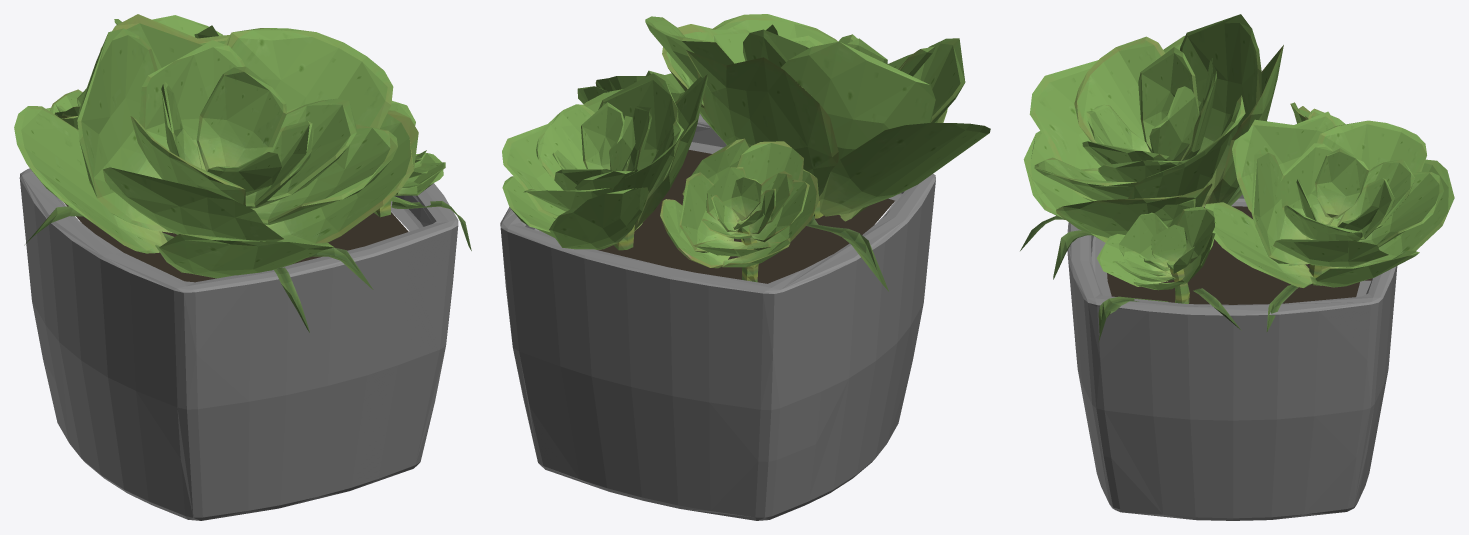
Rendered from sh-bsby-succulent-plant.glb.
3 views of the same model, side by side, from view 1: azimuth 30°, elevation 25°; view 2: azimuth 150°, elevation 25°; view 3: azimuth 270°, elevation 25° (orthographic). The views are drawn at different scales.
Parts seen in each view (by area): view 1: Cube_Cube.001, Plane.089_Plane.103, Plane.031_Plane.046; view 2: Cube_Cube.001, Plane.089_Plane.103, Plane.031_Plane.046, Cube.005_Cube.006; view 3: Plane.089_Plane.103, Cube_Cube.001, Plane.031_Plane.046, Cube.005_Cube.006.
Boxes of the visible parts, bbox=[...] form: Cube_Cube.001: bbox=[19, 168, 458, 520]; Plane.089_Plane.103: bbox=[14, 14, 445, 278]; Plane.031_Plane.046: bbox=[24, 201, 471, 332]; Cube_Cube.001: bbox=[500, 113, 935, 520]; Plane.089_Plane.103: bbox=[502, 14, 990, 268]; Plane.031_Plane.046: bbox=[806, 214, 888, 291]; Cube.005_Cube.006: bbox=[613, 201, 823, 282]; Plane.089_Plane.103: bbox=[1023, 14, 1454, 290]; Cube_Cube.001: bbox=[1067, 194, 1397, 520]; Plane.031_Plane.046: bbox=[1020, 186, 1298, 341]; Cube.005_Cube.006: bbox=[1167, 261, 1330, 303].
Bounding box in the file's own units: 0.9985 × 1 × 1.
Materials: 5 (3 with a texture image).
